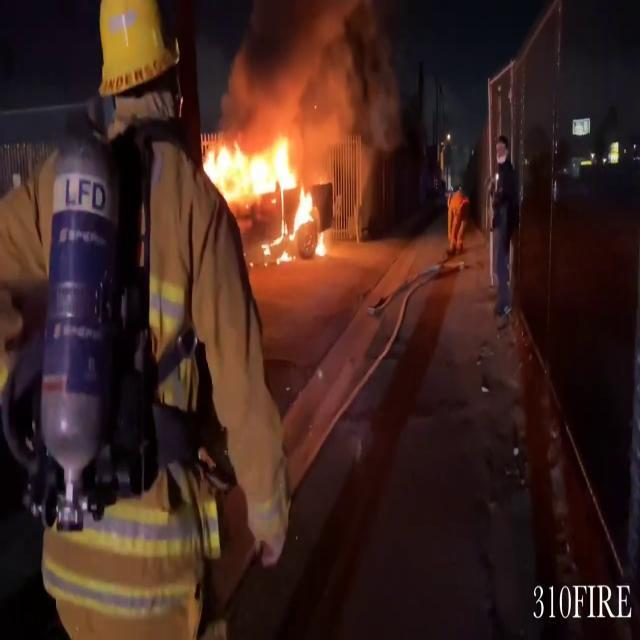Fire: (204, 123, 330, 258)
Smoke: (224, 0, 406, 149)
